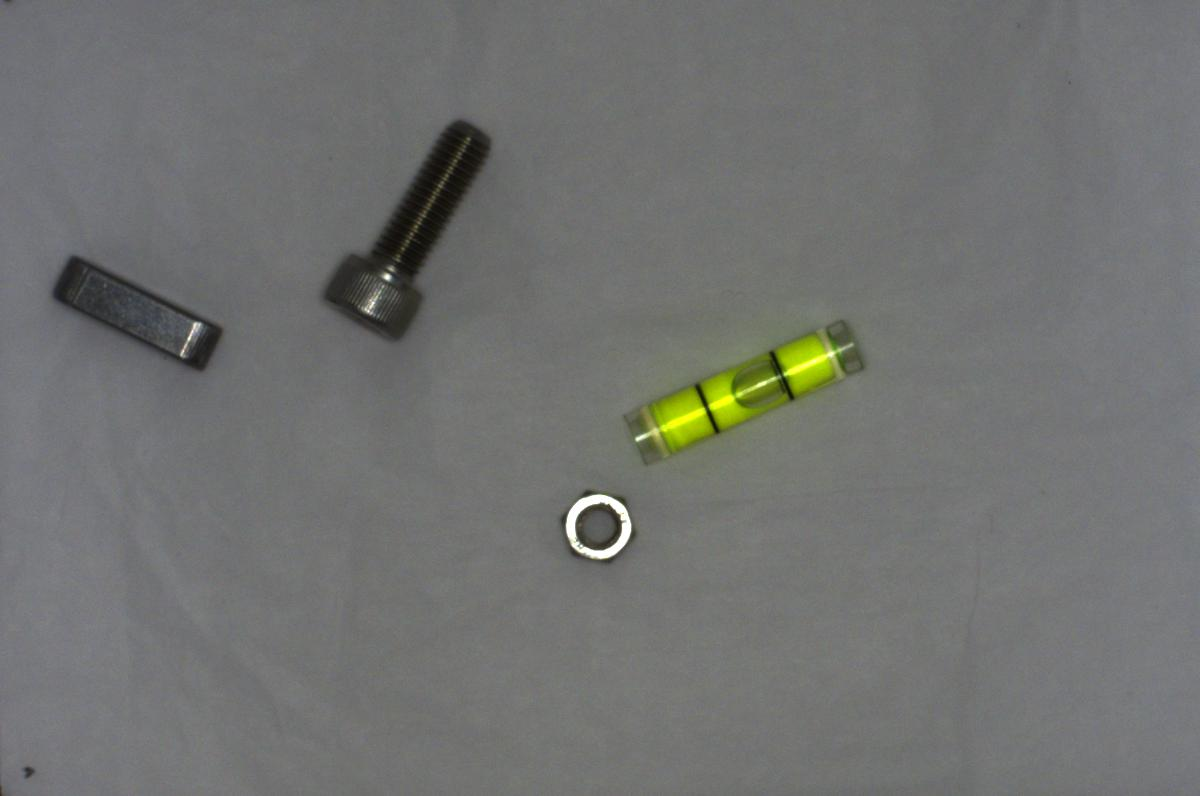Hexagon nut: (548, 482, 652, 572)
Hexagon screw: (310, 109, 497, 340)
Horizontal bubble: (620, 314, 874, 463)
Keybar: (41, 249, 231, 378)
